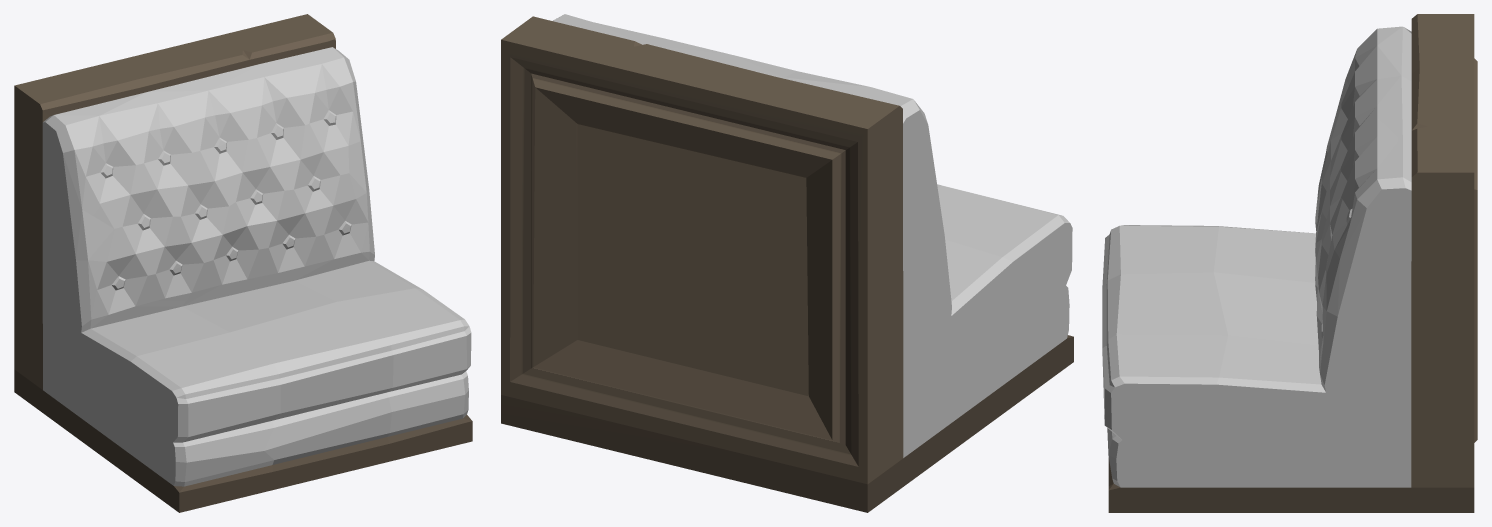
File: Prop_Sofa_01_Straight_02.fbx
3 renders of one model, left to right at view 1: azimuth 30°, elevation 25°; view 2: azimuth 150°, elevation 25°; view 3: azimuth 270°, elevation 25°, orthographic. The views are drawn at different scales.
Parts seen in each view (by area): view 1: SM_Prop_Sofa_01_Straight_02; view 2: SM_Prop_Sofa_01_Straight_02; view 3: SM_Prop_Sofa_01_Straight_02.
Boxes of the visible parts, x1,y1,x2,y2 form: SM_Prop_Sofa_01_Straight_02: (14, 14, 472, 512); SM_Prop_Sofa_01_Straight_02: (501, 14, 1073, 512); SM_Prop_Sofa_01_Straight_02: (1102, 14, 1477, 512).
Size of the model in its own units: 100 by 100 by 100.
